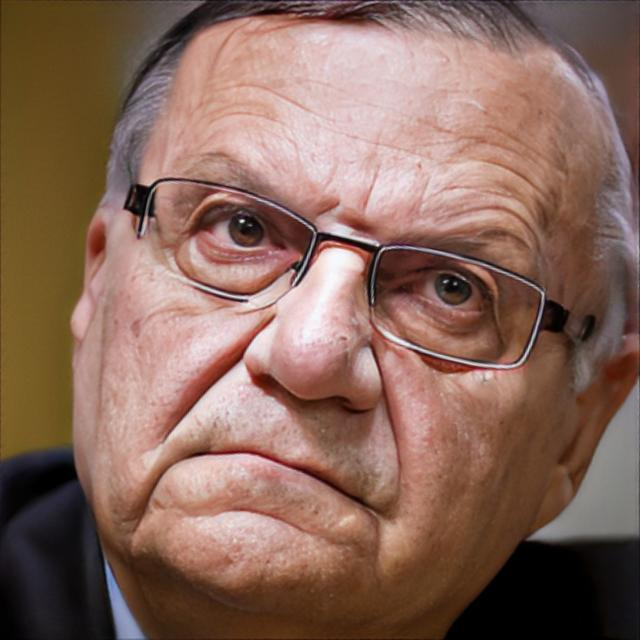anger: (102, 17, 584, 601)
